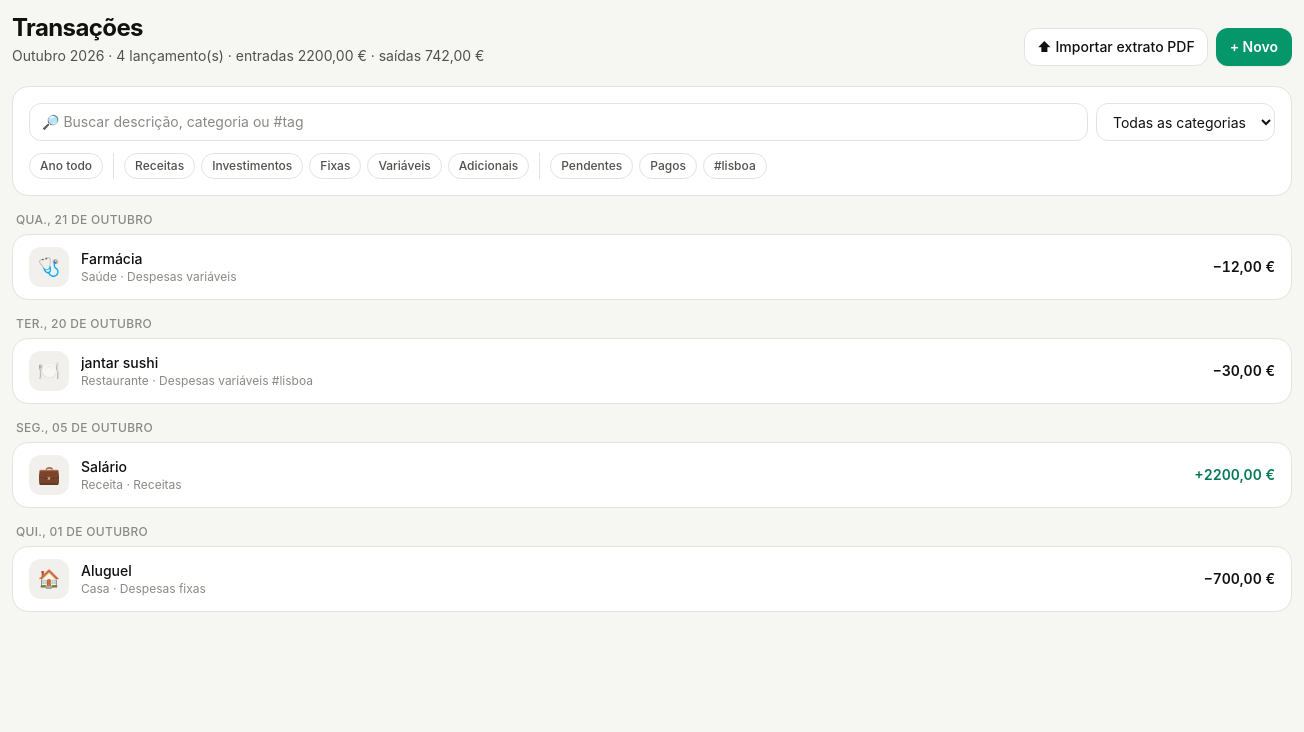
Test case: Transações › "Ano todo" shows every month
expect the text "Farmácia" is shown: met, box [81,250,142,267]
Step 1. Click the button "Ano todo" → (66, 166), box [29,153,103,179]
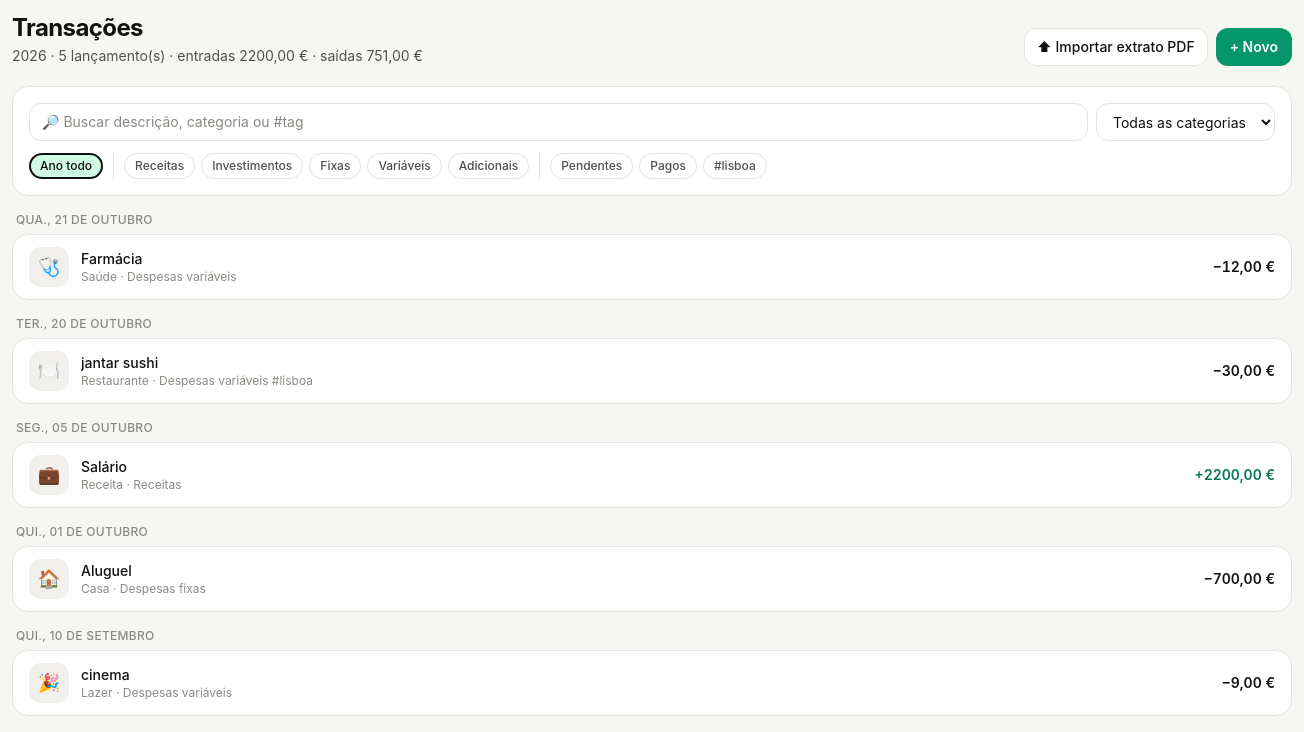
expect the text "cinema" is shown: met, box [81,666,130,683]
